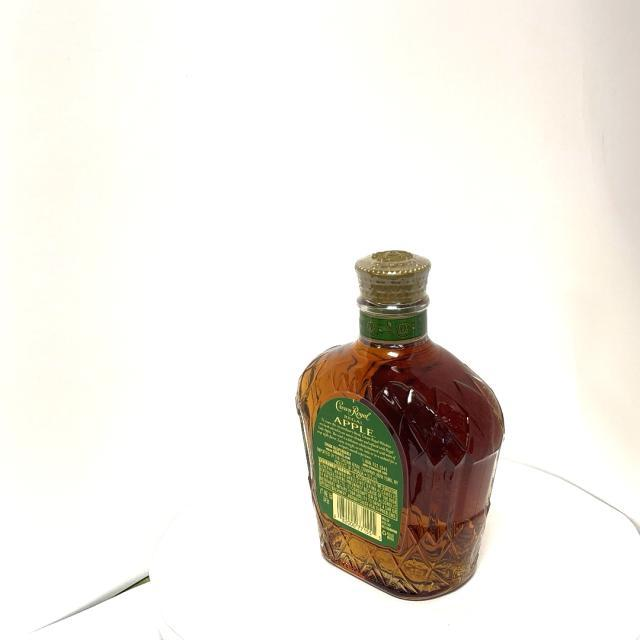CROWN ROYAL APPLE 375ML: (284, 248, 524, 604)
